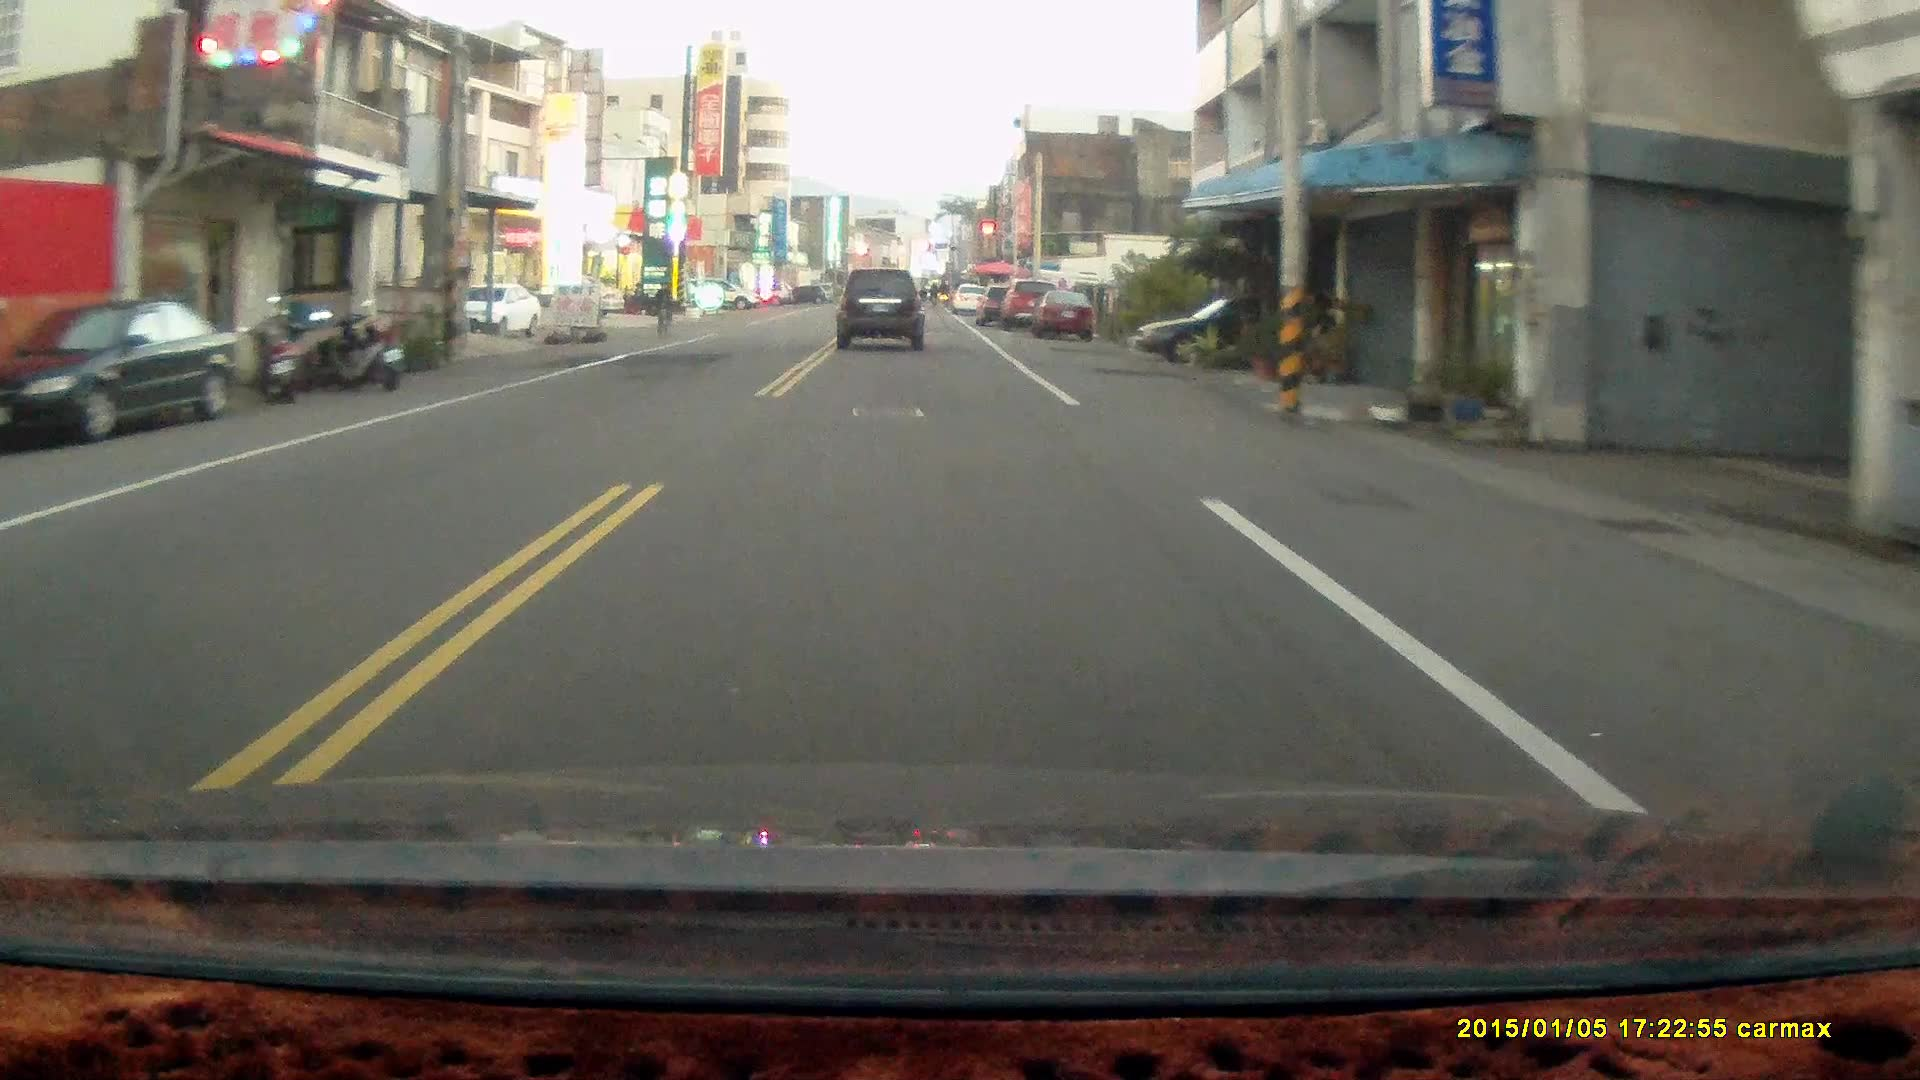rider: (649, 279, 674, 343)
vehicle: (1, 299, 248, 445), (1129, 299, 1324, 366), (836, 266, 928, 354), (451, 285, 543, 340), (1029, 288, 1096, 340)
